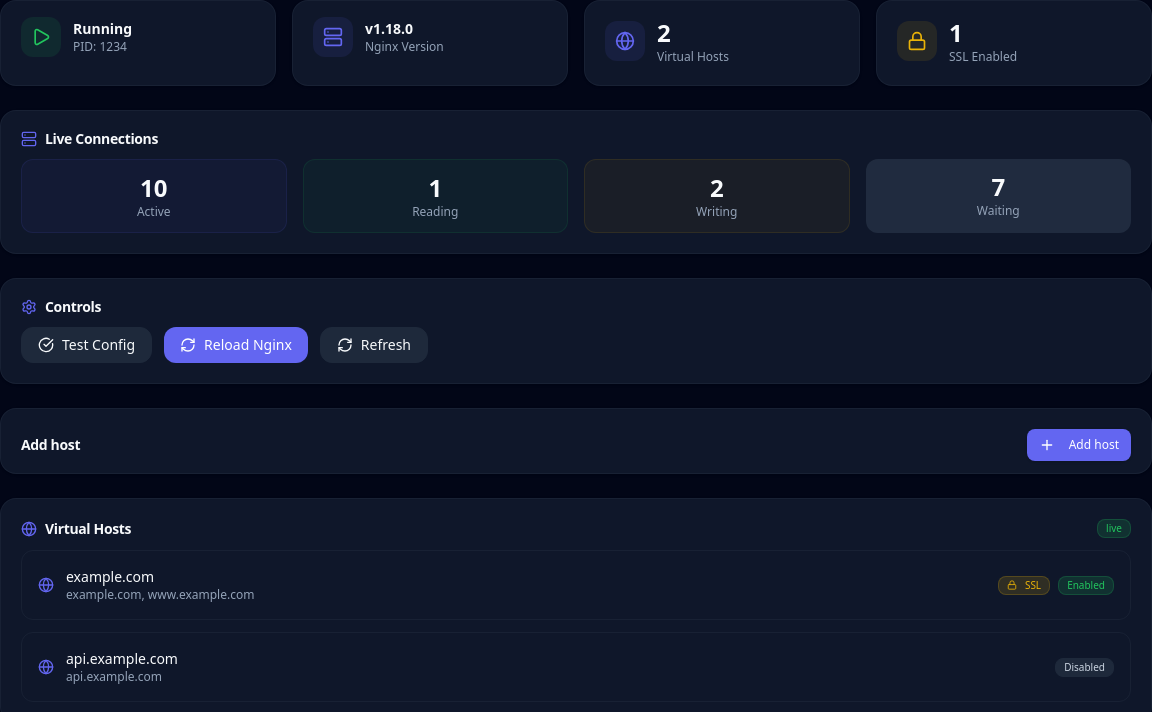
Test: NginxPage › handles test failure
Click the button "Test Config" at (87, 345), box top-left (21, 327), bottom-right (152, 363)
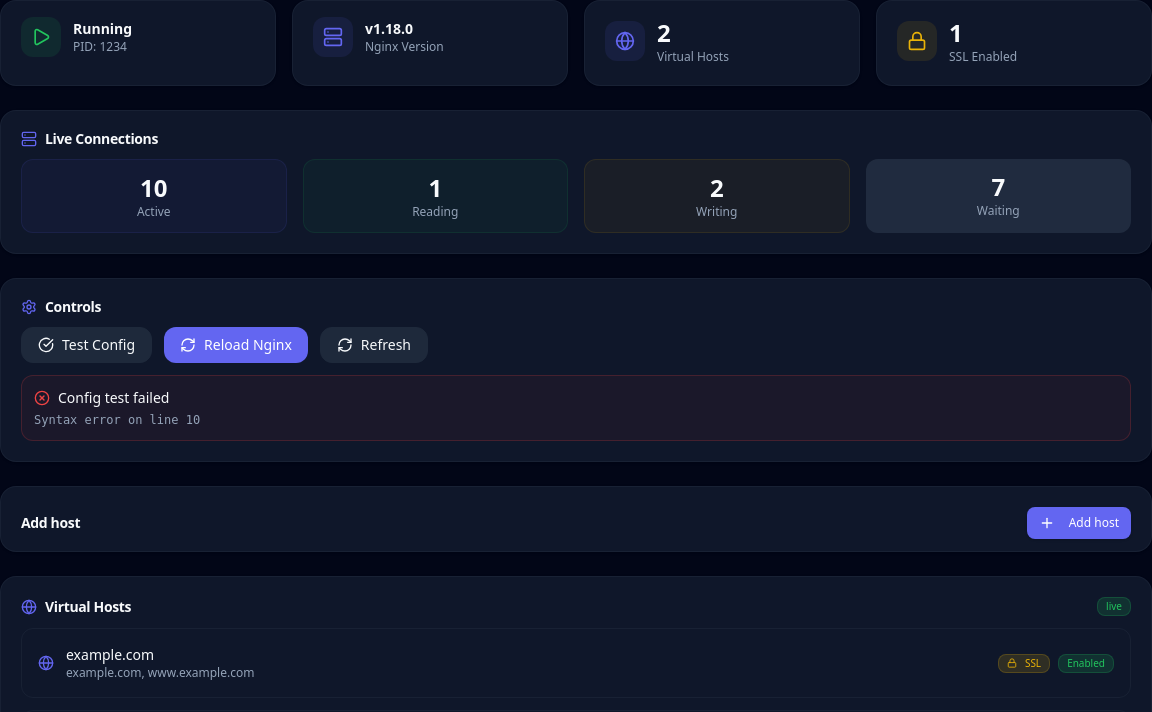
Expected: the text "Config test failed" is shown, top-left (58, 388), bottom-right (169, 408)
